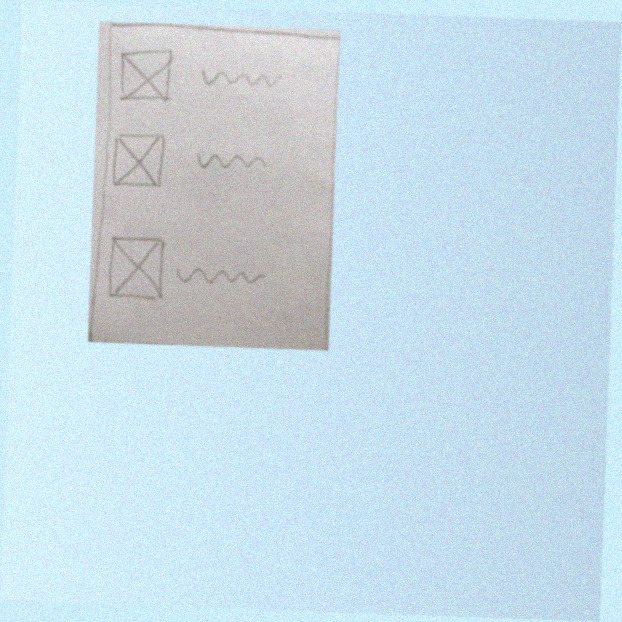image: (104, 233, 168, 301), (115, 46, 175, 106), (108, 131, 168, 190)
text: (175, 260, 268, 291), (188, 144, 279, 174), (195, 65, 287, 94)
